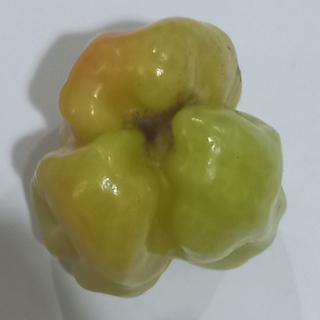Grade-B: (24, 10, 294, 299)
